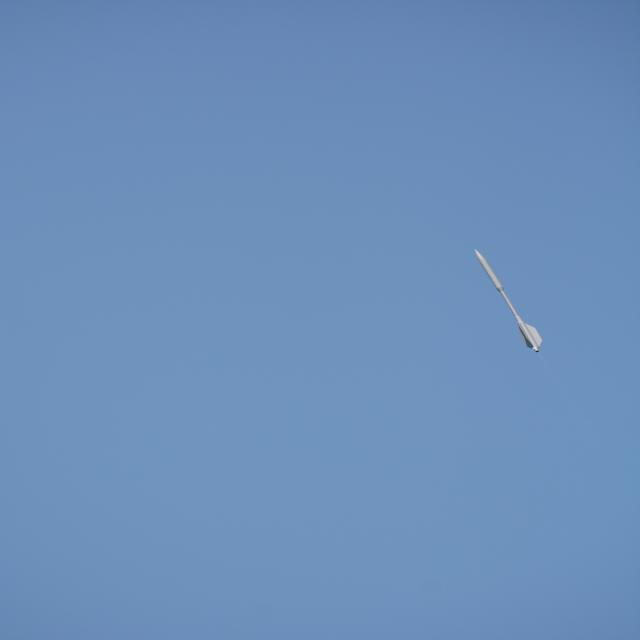Rocket: (474, 249, 543, 353)
